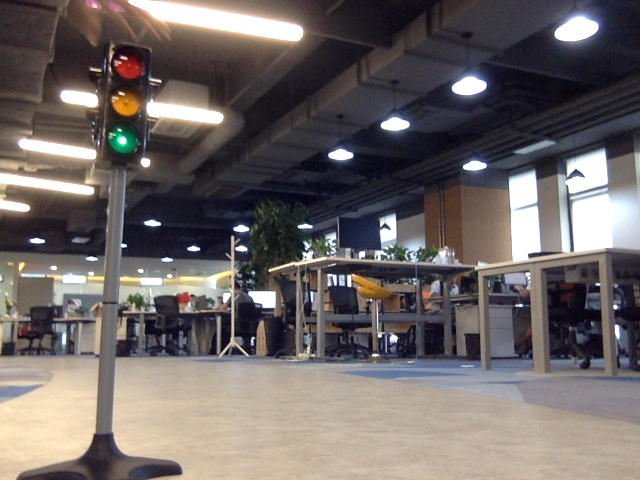green: (104, 53, 141, 154)
